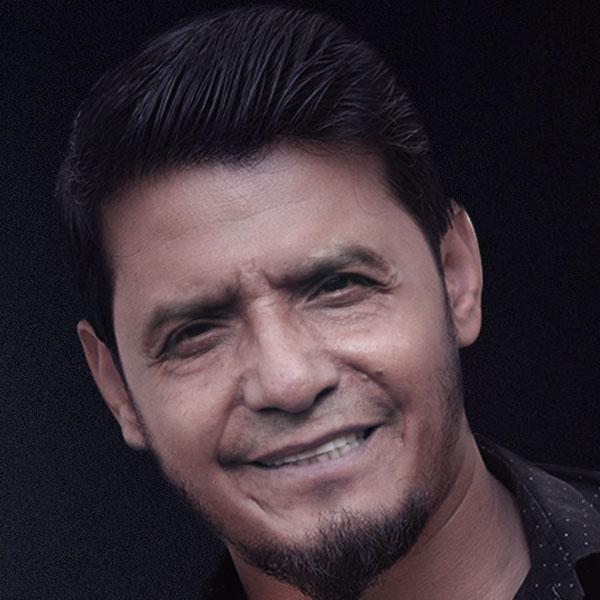Eyes: (156, 302, 238, 364), (295, 261, 384, 314)
